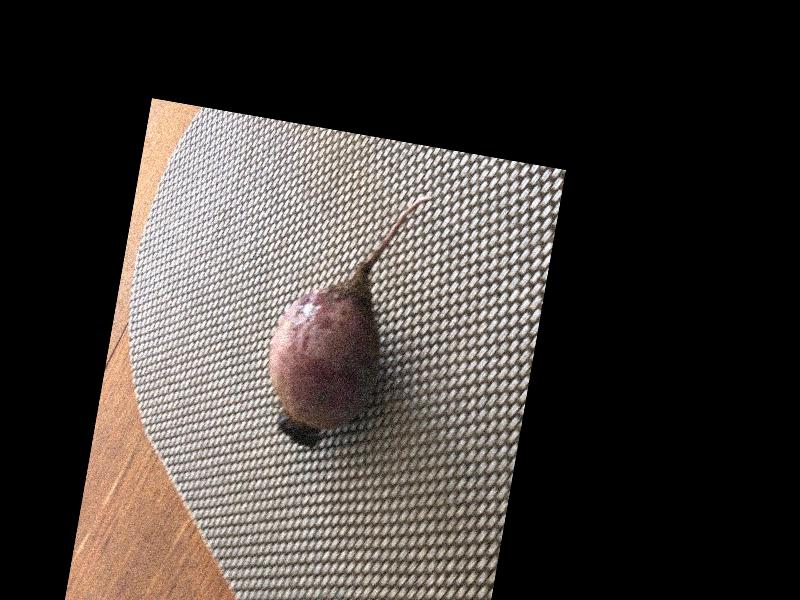Beet: (255, 173, 433, 461)
